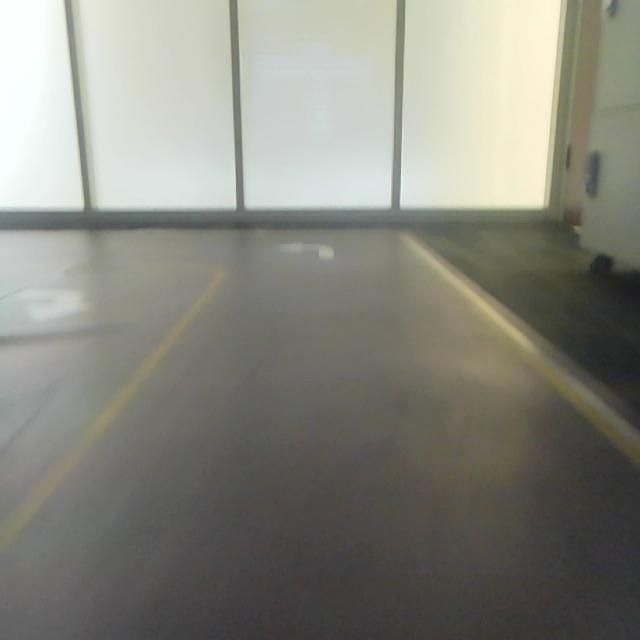left_lane: (0, 274, 223, 554)
right_lane: (405, 238, 640, 470)
